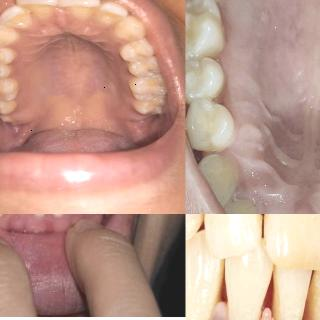cavities: (138, 68, 156, 82)
maligned: (20, 0, 61, 24), (57, 0, 99, 21)
plaque: (215, 153, 243, 210), (228, 196, 268, 214), (4, 76, 20, 99), (4, 44, 20, 62), (4, 62, 18, 78), (22, 4, 38, 18)
